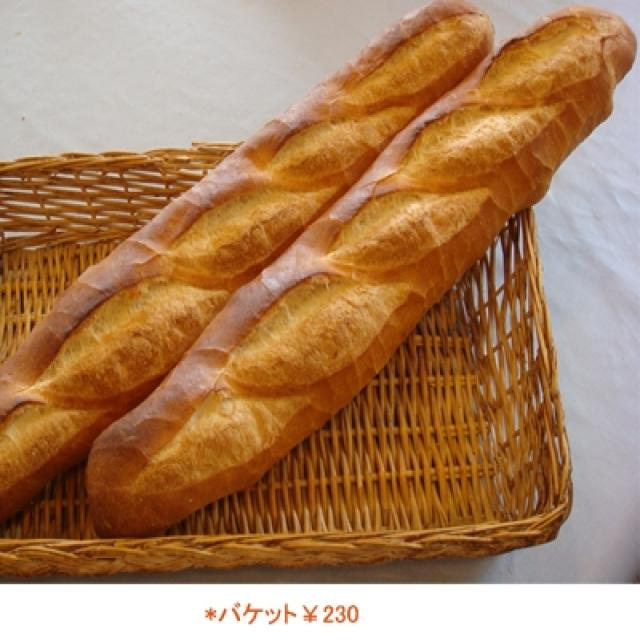面包点心: (2, 2, 635, 565)
